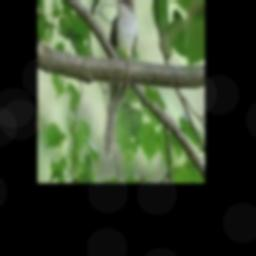Cuckoo: (104, 0, 137, 159)
